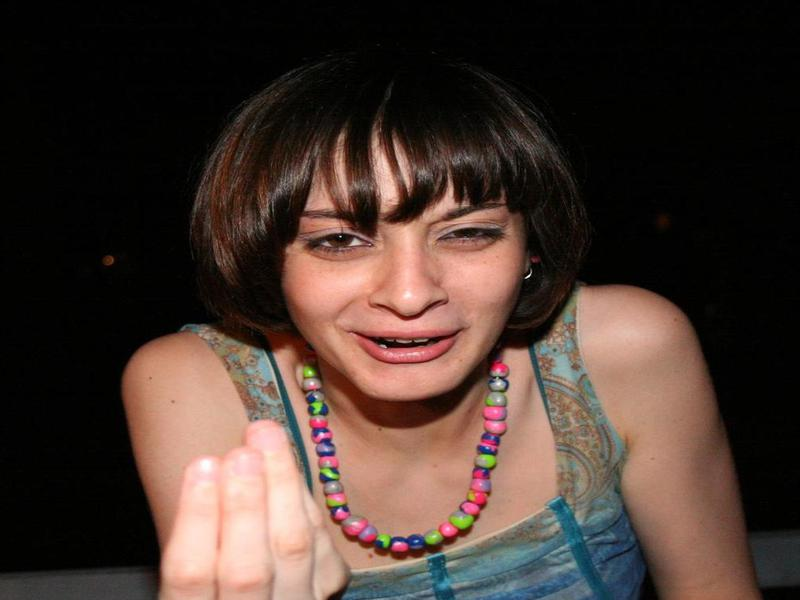person: (116, 61, 764, 600)
